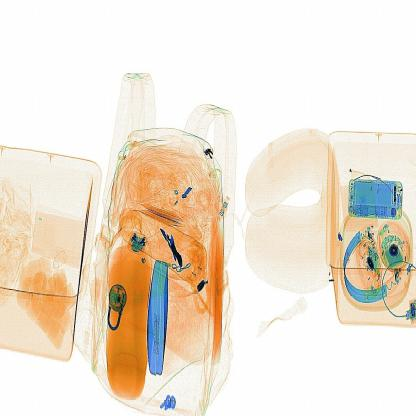wrench: (153, 222, 195, 282)
